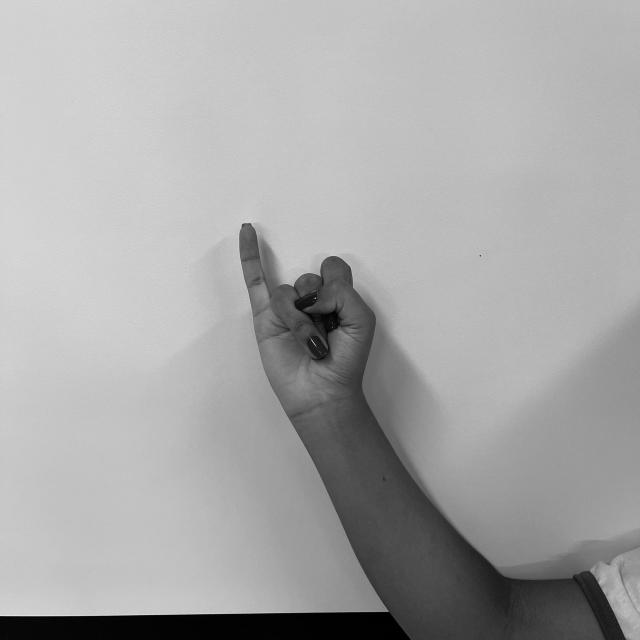Letra I: (234, 217, 382, 421)
